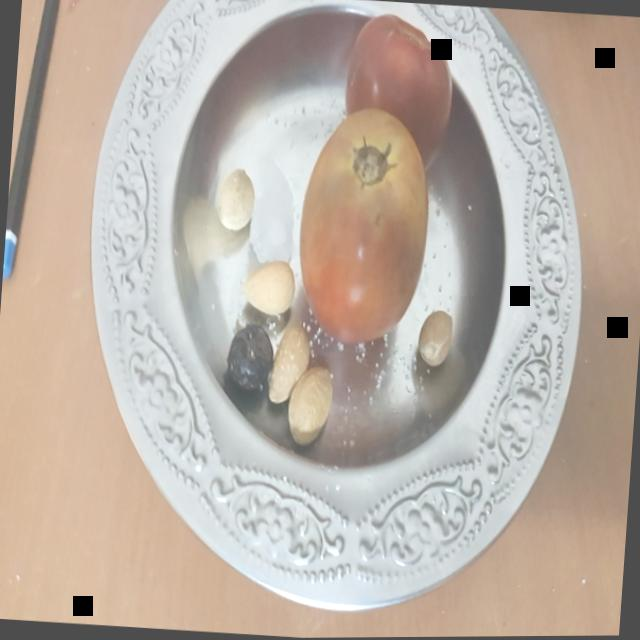tomato: (293, 100, 438, 353), (325, 7, 460, 165)
